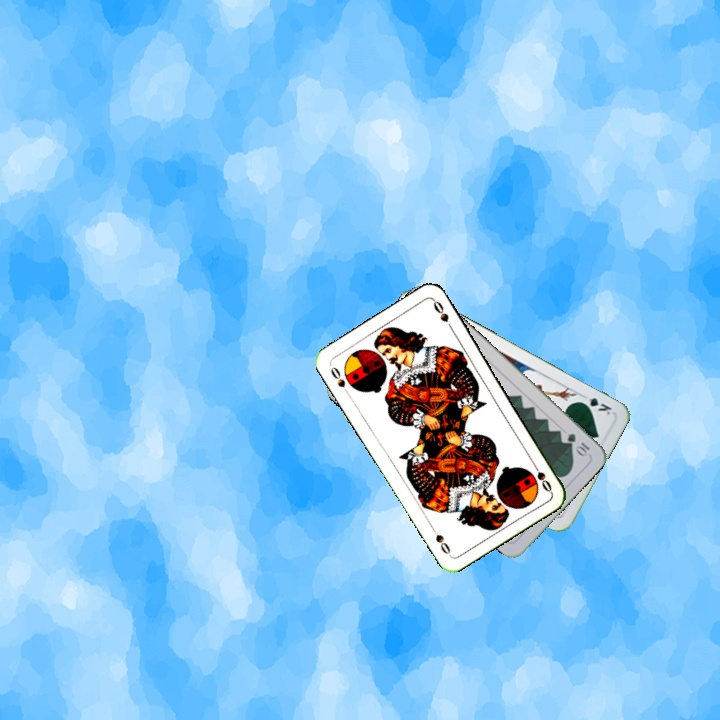G10: (563, 429, 592, 459)
GK: (575, 390, 614, 418)
SO: (528, 457, 554, 495), (326, 361, 348, 390)
